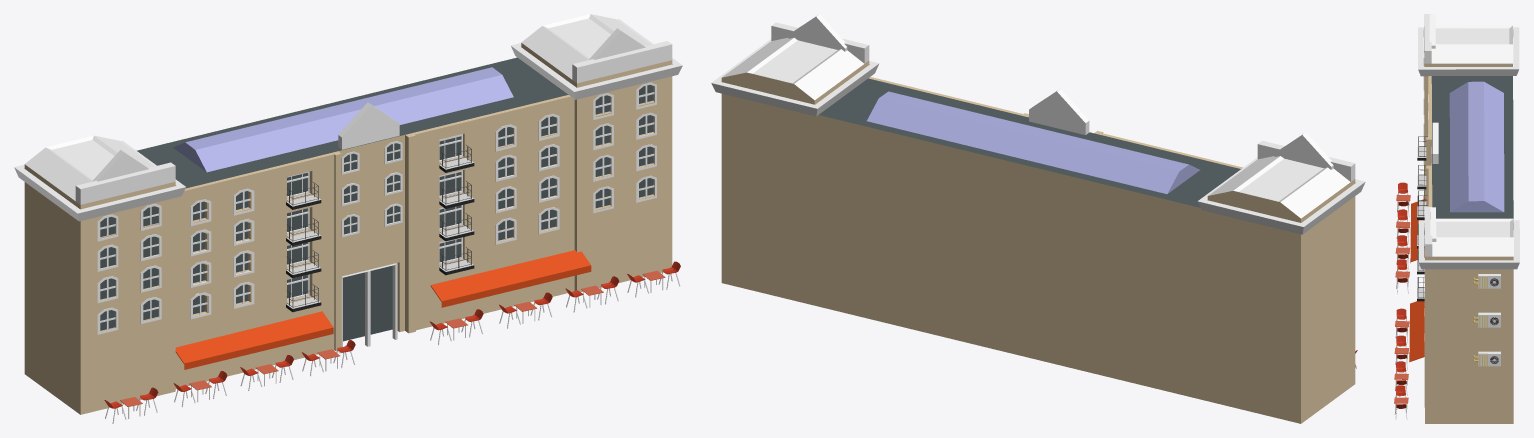
File: Hotel1_1.glb
3 views of the same model, side by side, from view 1: azimuth 30°, elevation 25°; view 2: azimuth 150°, elevation 25°; view 3: azimuth 270°, elevation 25° (orthographic). The views are drawn at different scales.
Parts seen in each view (by area): view 1: Hotel1Root; view 2: Hotel1Root; view 3: Hotel1Root.
Boxes of the visible parts, x1,y1,x2,y2 form: Hotel1Root: (14, 14, 682, 423); Hotel1Root: (711, 14, 1365, 423); Hotel1Root: (1394, 14, 1519, 423).
Size of the model in its own units: 25.45 by 10.31 by 5.75.
